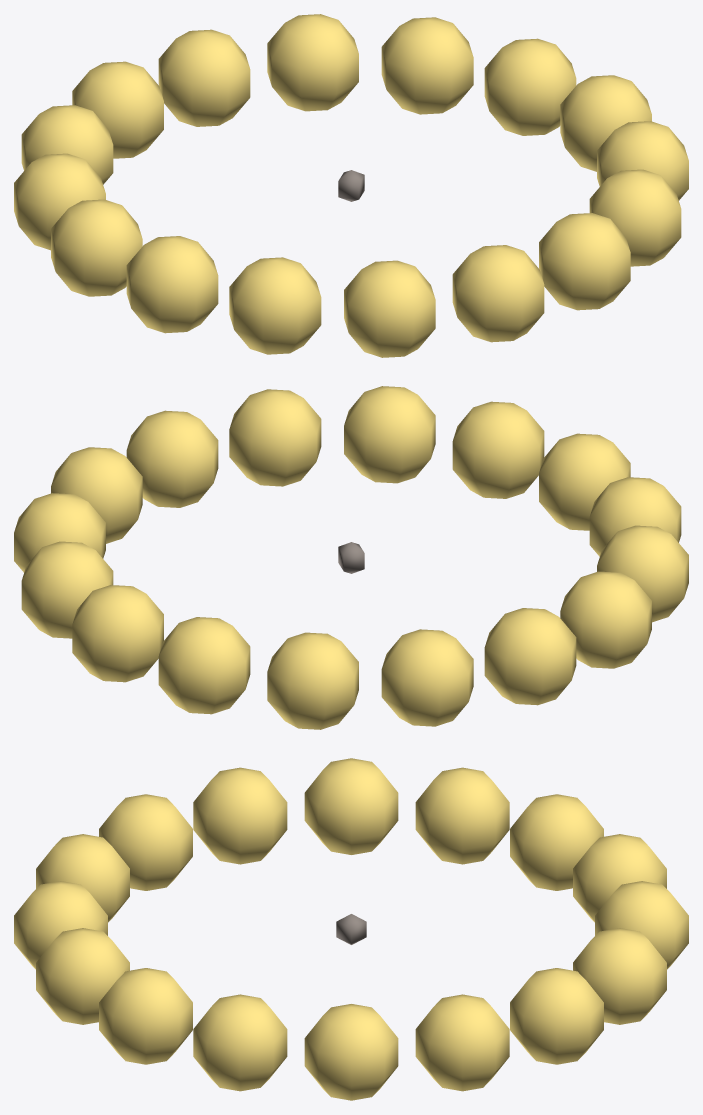
File: hat_halo.glb
The picture shows the model from 3 angles, top to bottom: view 1: azimuth 30°, elevation 25°; view 2: azimuth 150°, elevation 25°; view 3: azimuth 270°, elevation 25°; orthographic projection.
Parts seen in each view (by area): view 1: hat_halo; view 2: hat_halo; view 3: hat_halo.
Part boxes in pixels (box(x1,y1,x2,y2)): hat_halo: box(14, 14, 688, 357); hat_halo: box(14, 386, 688, 729); hat_halo: box(14, 758, 688, 1100).
Size of the model in its own units: 23.23 by 3.4 by 23.23.
